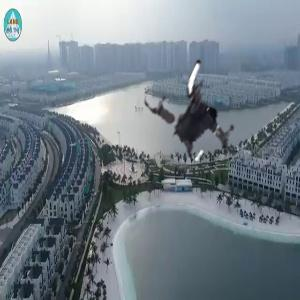drone: (140, 47, 266, 173)
